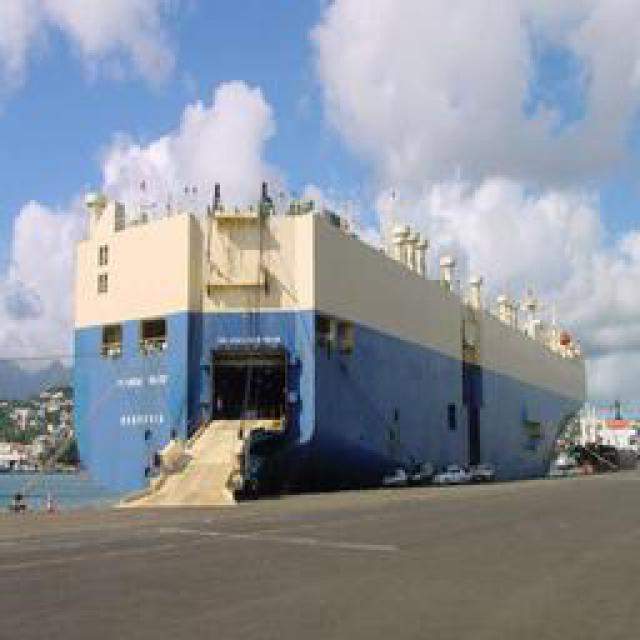Ship: (56, 155, 605, 504)
